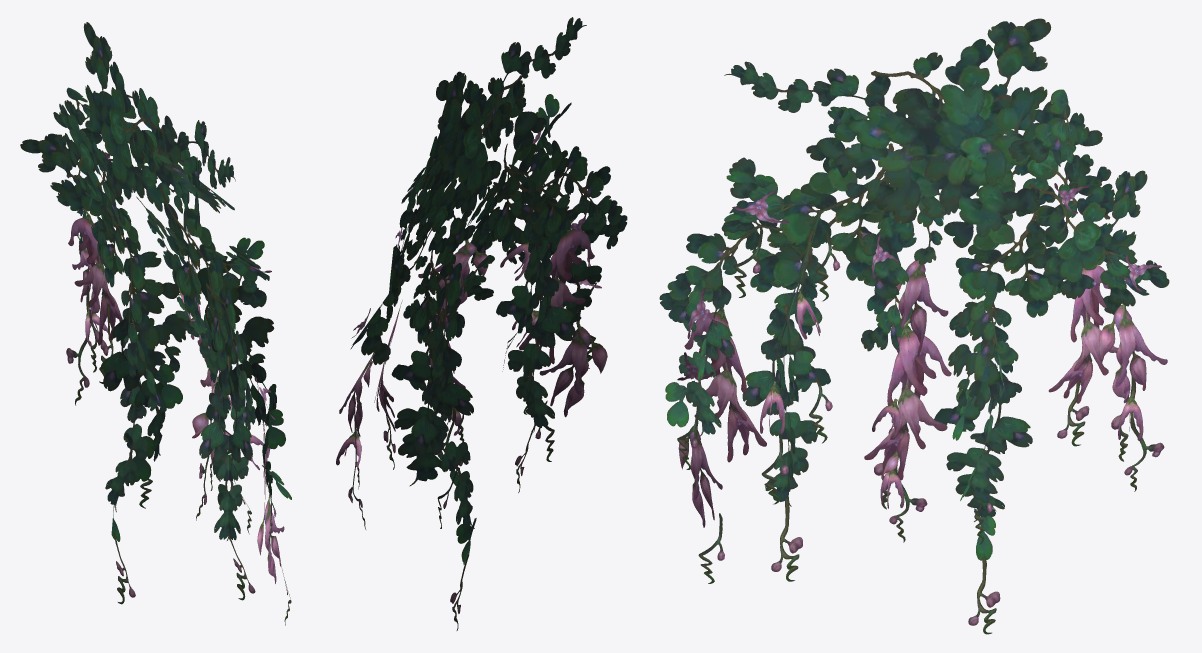
The picture shows the model from 3 angles, left to right: view 1: azimuth 30°, elevation 25°; view 2: azimuth 150°, elevation 25°; view 3: azimuth 270°, elevation 25°; orthographic projection. The views are drawn at different scales.
Size of the model in its own units: 1.78 by 9.01 by 6.96.
1 material, 1 textured.
